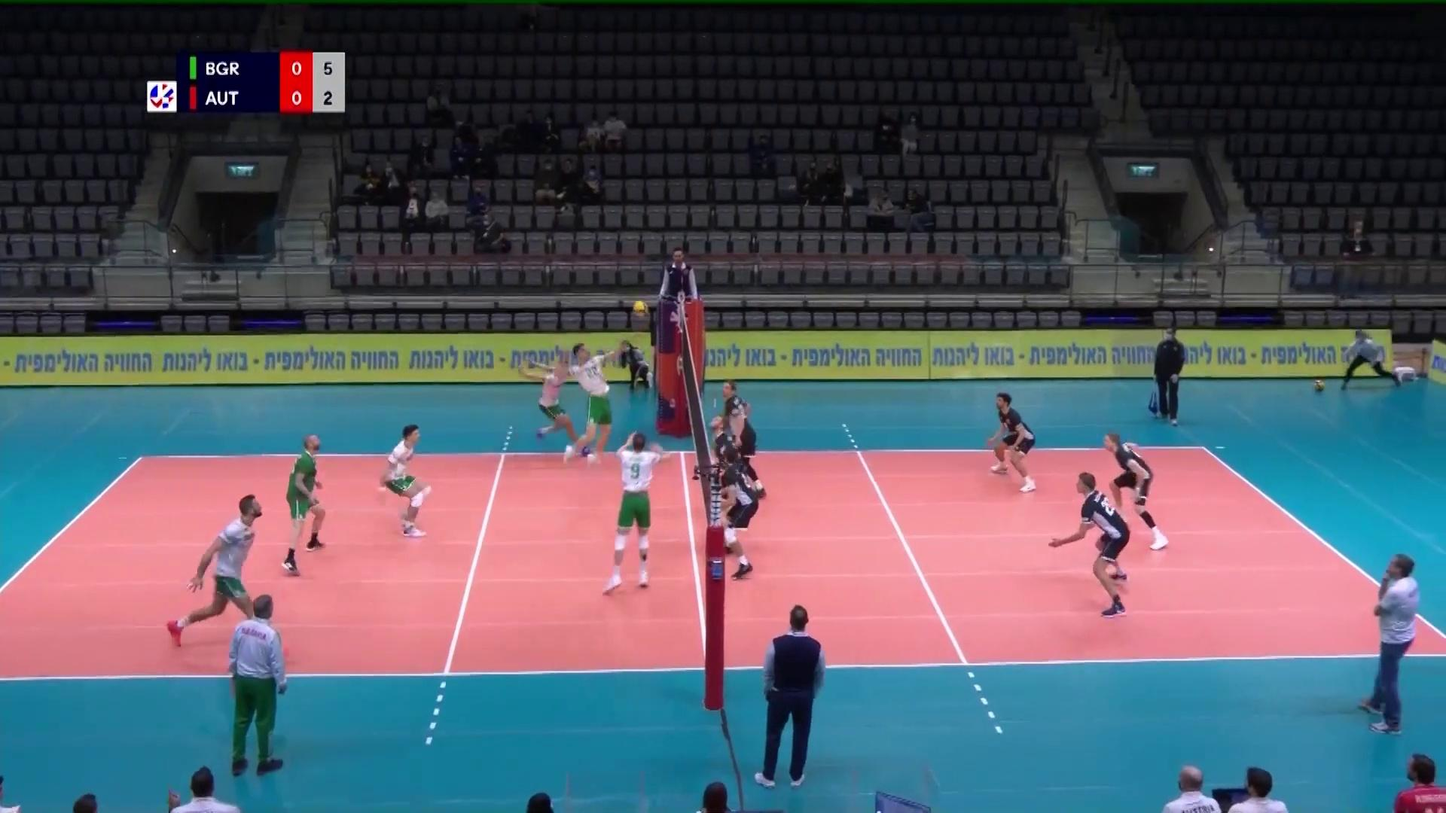ball: (633, 300, 649, 316)
